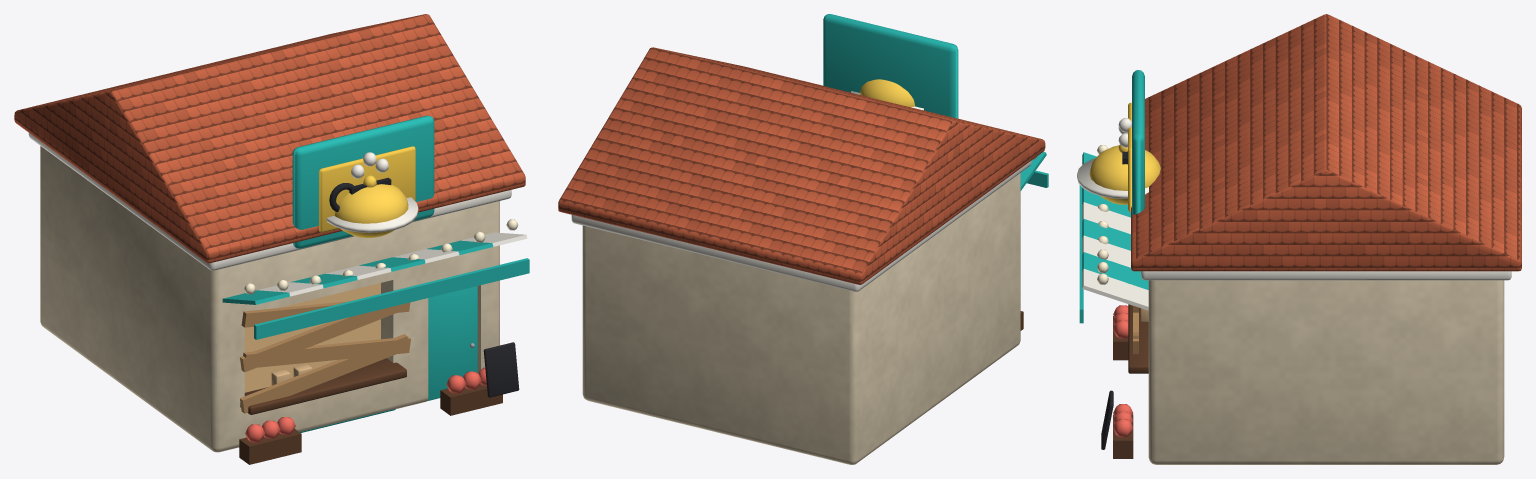
Rendered from restaurant_dream.gltf.
The picture shows the model from 3 angles, left to right: view 1: azimuth 30°, elevation 25°; view 2: azimuth 150°, elevation 25°; view 3: azimuth 270°, elevation 25°; orthographic projection. The views are drawn at different scales.
Parts seen in each view (by area): view 1: restaurant_dream_mesh, ACC_closed, ACC_open, INT_door_restaurant_dream, INT_counter_dream; view 2: restaurant_dream_mesh, ACC_open; view 3: restaurant_dream_mesh, ACC_open, INT_counter_dream, ACC_closed.
Boxes of the visible parts, x1,y1,x2,y2 form: restaurant_dream_mesh: [14, 14, 529, 452]; ACC_closed: [240, 146, 415, 413]; ACC_open: [239, 152, 518, 464]; INT_door_restaurant_dream: [427, 286, 477, 400]; INT_counter_dream: [240, 358, 406, 414]; restaurant_dream_mesh: [558, 14, 1048, 464]; ACC_open: [851, 79, 1037, 330]; restaurant_dream_mesh: [1079, 14, 1521, 464]; ACC_open: [1077, 118, 1160, 458]; INT_counter_dream: [1128, 304, 1148, 373]; ACC_closed: [1122, 102, 1138, 353].
Size of what is drawn, in the model's own units: 7.3 by 6.64 by 8.76.
17 materials, 2 textured.
